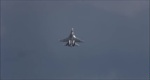maybay_muctieu: (58, 26, 84, 49)
